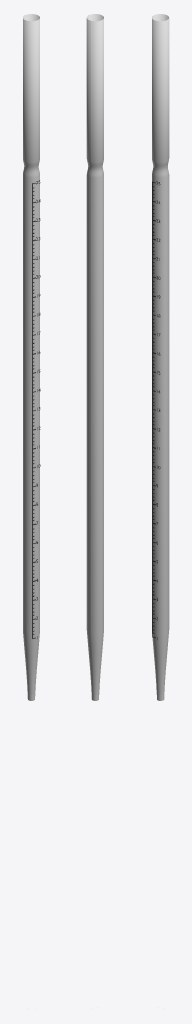
File: BallPippetteLabelnew.gltf
The picture shows the model from 3 angles, left to right: view 1: azimuth 30°, elevation 25°; view 2: azimuth 150°, elevation 25°; view 3: azimuth 330°, elevation 25°; orthographic projection.
Visible parts, largest first — view 1: Label; view 2: Label; view 3: Label.
Boxes of the visible parts, x1,y1,x2,y2 form: Label: (23, 14, 40, 1008); Label: (86, 14, 103, 700); Label: (152, 14, 169, 1008).
Bounding box in the file's own units: 0.1099 × 6.94 × 0.1129.
3 materials, 1 textured.
